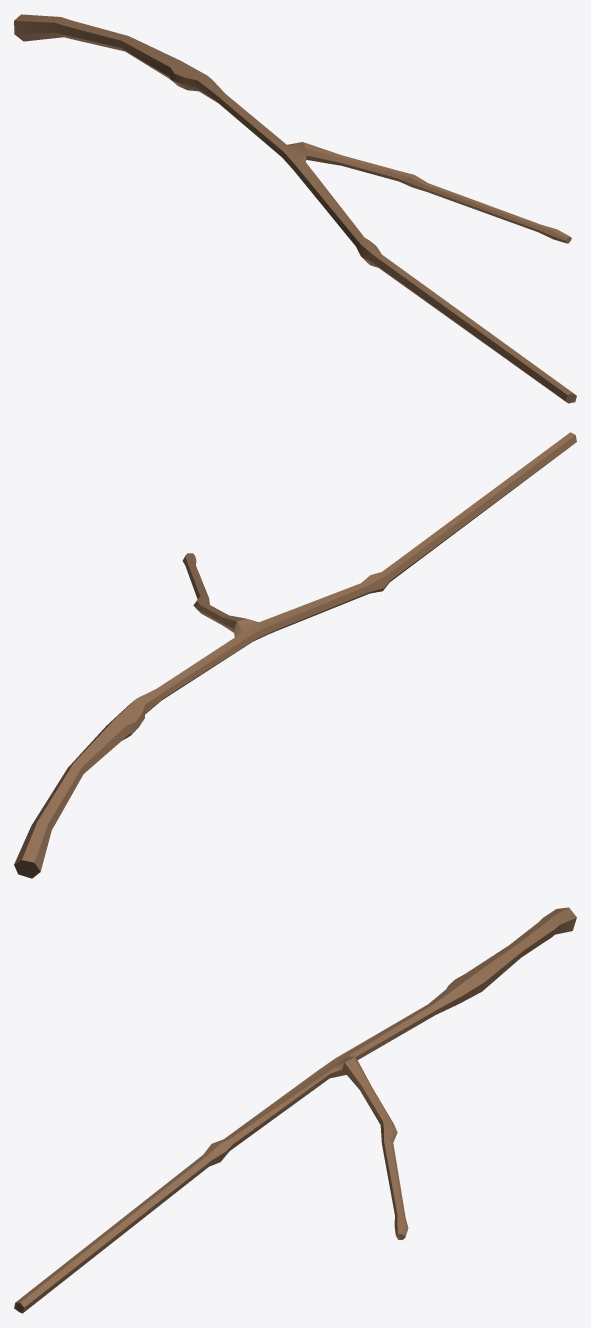
The model's file is dead_branch_02.glb.
3 views of the same model, one above another, from view 1: azimuth 30°, elevation 25°; view 2: azimuth 150°, elevation 25°; view 3: azimuth 330°, elevation 25° (orthographic). The views are drawn at different scales.
Parts seen in each view (by area): view 1: dead_branch_02; view 2: dead_branch_02; view 3: dead_branch_02.
Part boxes in pixels (x1=…): dead_branch_02: x1=14, y1=14, x2=576, y2=403; dead_branch_02: x1=14, y1=432, x2=576, y2=878; dead_branch_02: x1=14, y1=907, x2=576, y2=1313.
Size of the model in its own units: 0.0896 by 0.0265 by 0.4034.
